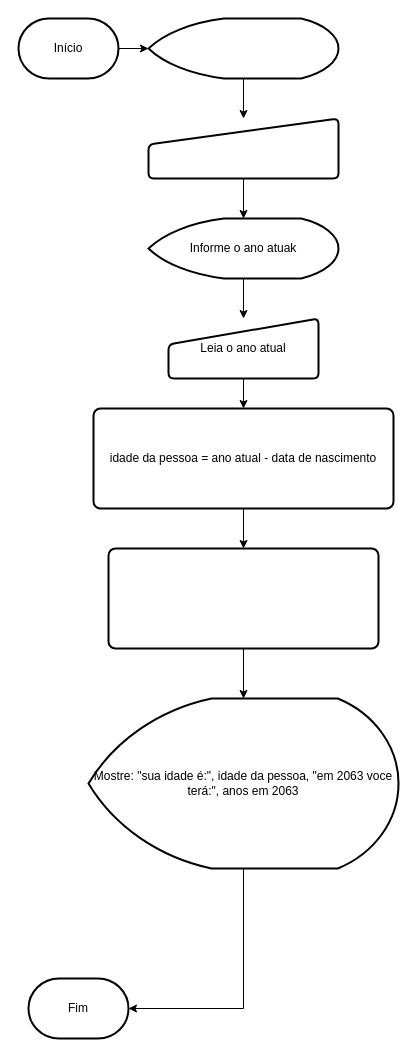
Some shapes in this 416 by 1056 pixel diagram are drawn without their labels. The shapes that lost their labels are listed below. From the top down, each one's centre as x and y in pixels, then its label:
At [243,48]: "Informe sua data de nascimento".
At [243,148]: "Leia a data de nascimento".
At [243,598]: "anos em 2063 = 2063 - data de nascimento".
